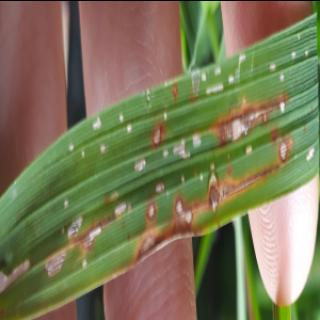Blast: (30, 202, 119, 282), (203, 83, 290, 153), (133, 195, 200, 262), (203, 170, 238, 216), (150, 120, 170, 148)
